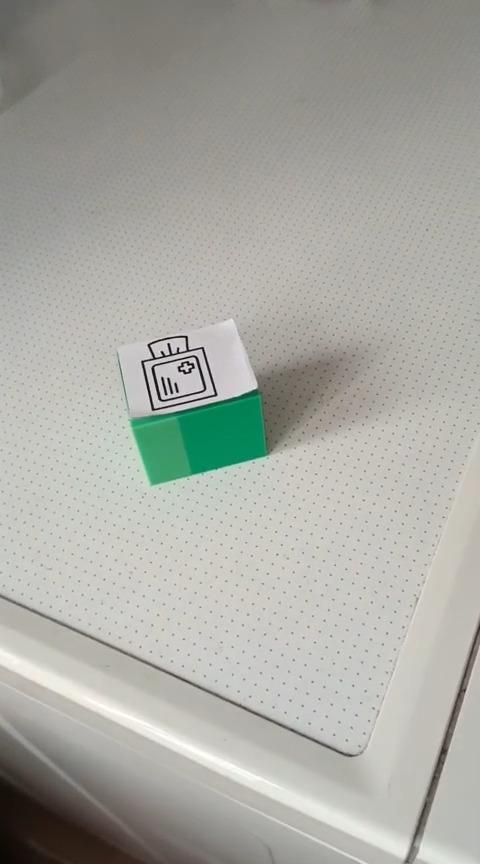Gauze: (114, 316, 269, 486)
